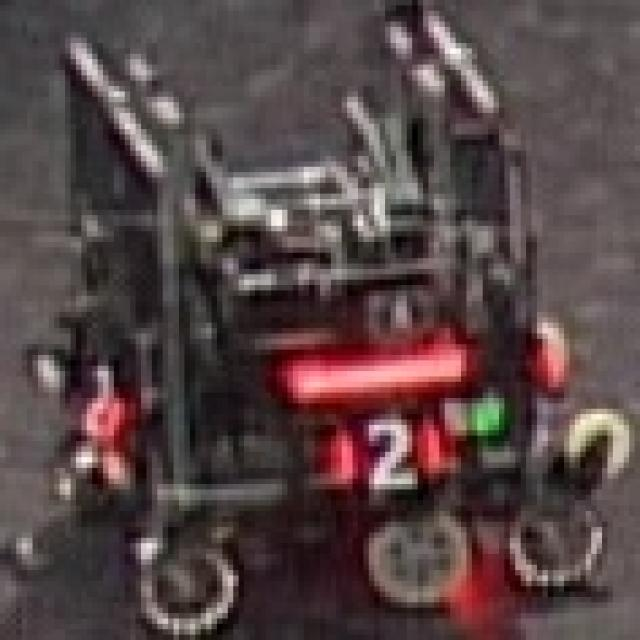R2: (325, 414, 445, 495), (71, 355, 130, 452)
